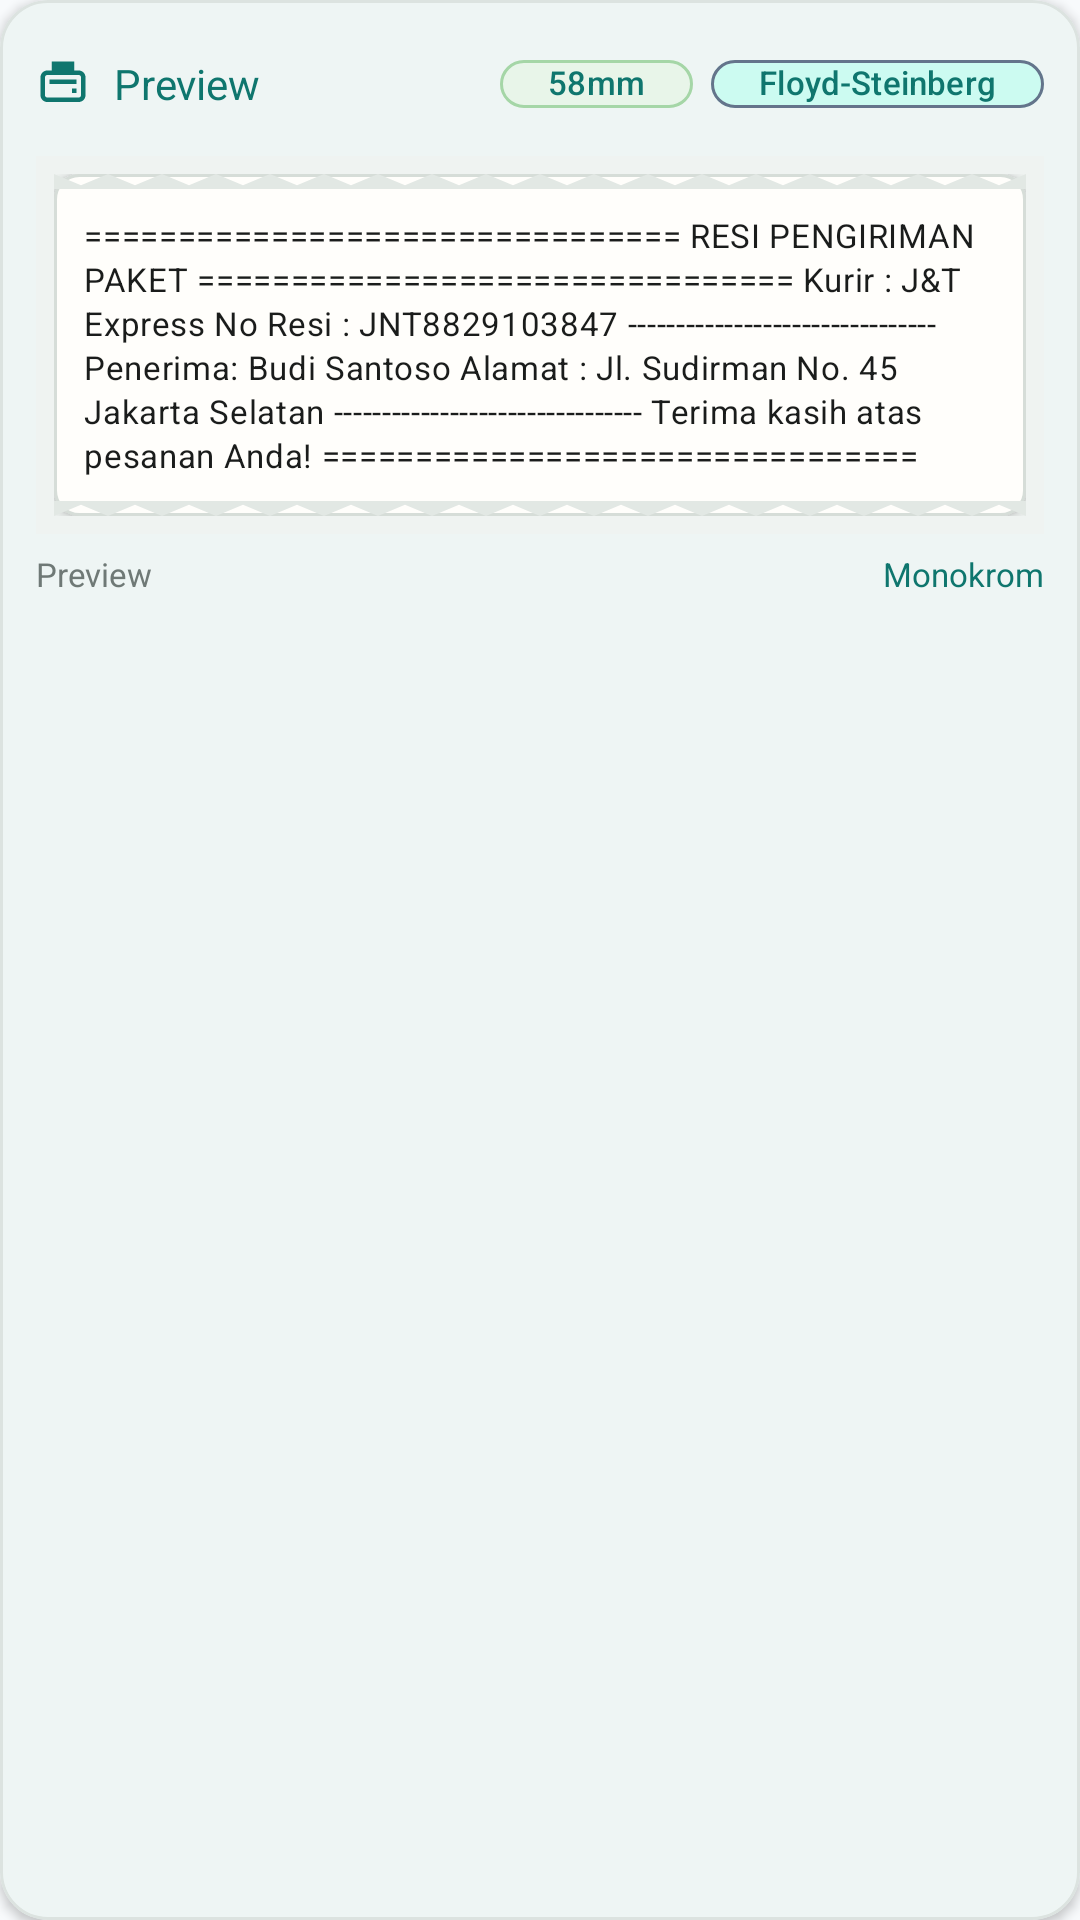

Named icons in this screenshot (1080px×1920px) and their centers, (x,y):
print: (63,81)
